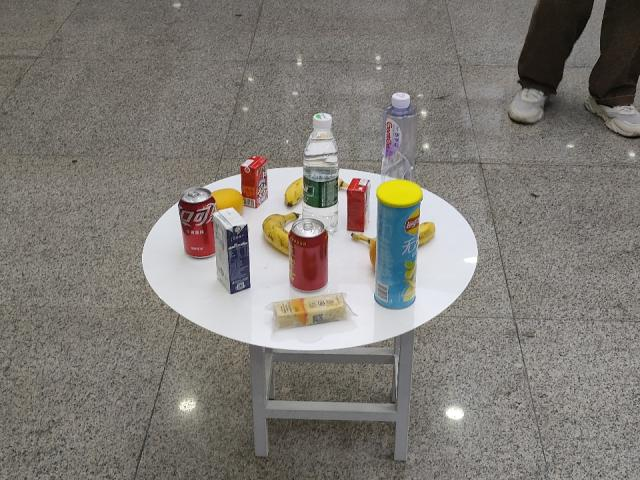Canned_drinks: (291, 222, 331, 290), (179, 188, 214, 260)
bottle: (382, 96, 421, 178), (308, 117, 334, 220)
cylinder: (378, 186, 420, 309)
drink_box: (215, 212, 252, 286), (241, 159, 268, 205), (348, 182, 369, 232)
